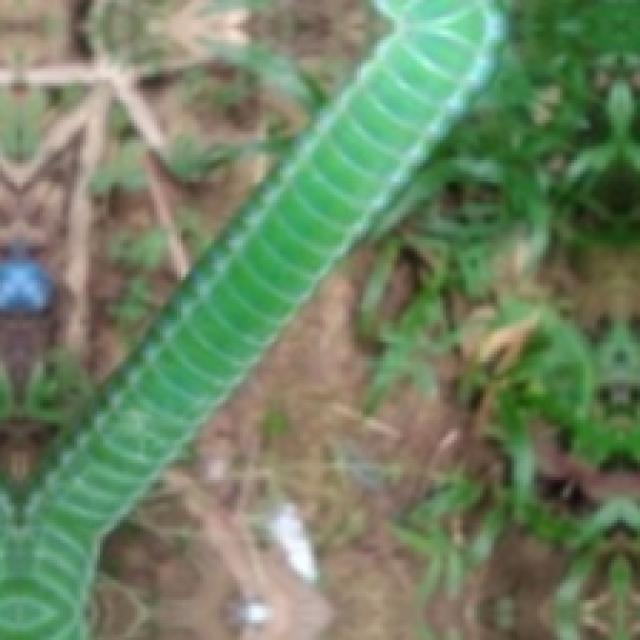red-tailed green ratsnake: (0, 0, 503, 637)
